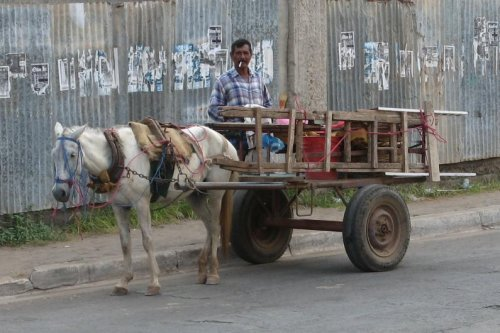horse: (50, 117, 239, 297)
